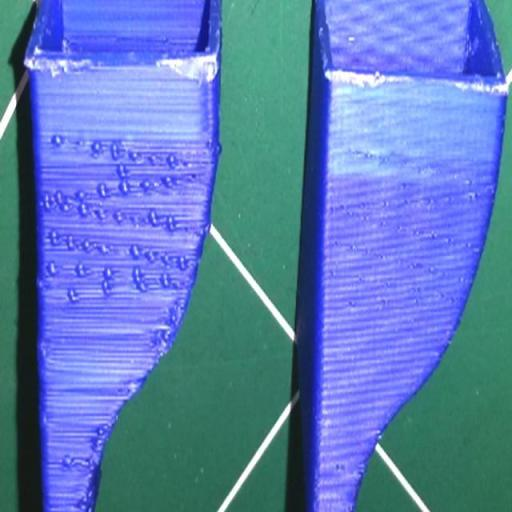blobs: (88, 137, 103, 164), (106, 139, 120, 166), (164, 212, 177, 236), (98, 182, 111, 206), (149, 206, 162, 229), (144, 249, 158, 270), (160, 250, 174, 270), (115, 175, 128, 196), (64, 287, 78, 306), (53, 186, 64, 210), (112, 210, 124, 231), (50, 226, 60, 251), (74, 258, 86, 278), (137, 278, 151, 295), (44, 260, 58, 277), (147, 149, 160, 167), (174, 257, 188, 273), (82, 236, 92, 258), (77, 202, 89, 220), (40, 191, 52, 209), (74, 135, 84, 156), (99, 280, 112, 296), (97, 240, 110, 256), (61, 200, 72, 217), (128, 150, 141, 164), (164, 152, 177, 166), (160, 274, 170, 292), (140, 179, 151, 195), (66, 236, 76, 252), (52, 130, 62, 146), (130, 247, 140, 262), (104, 265, 114, 280), (116, 168, 126, 182), (141, 179, 149, 195)
